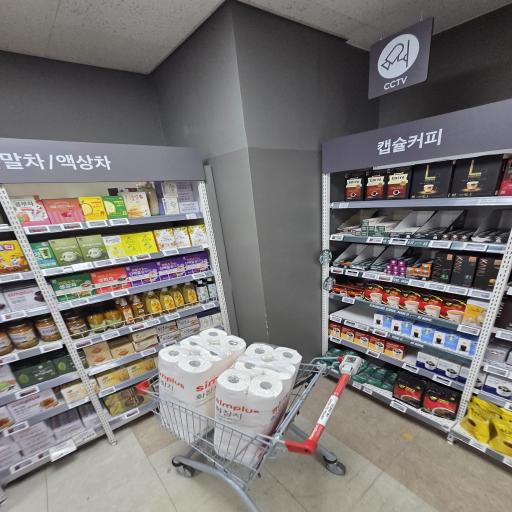fully_cart: (140, 327, 368, 512)
